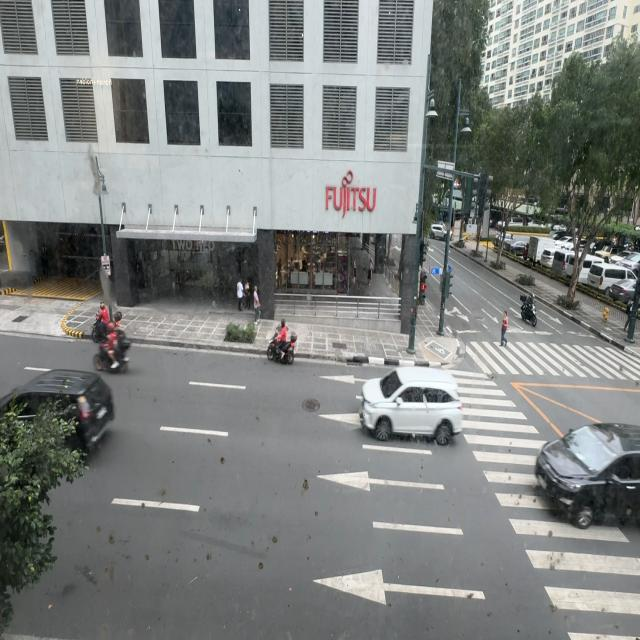crossing: (501, 309, 508, 345)
